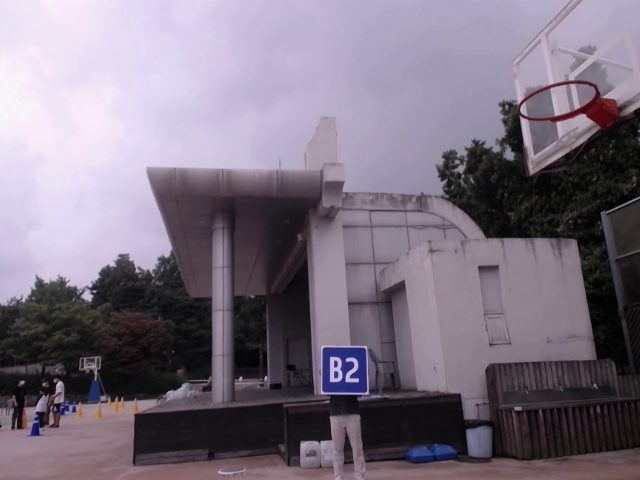delivery_b2: (322, 348, 368, 392)
